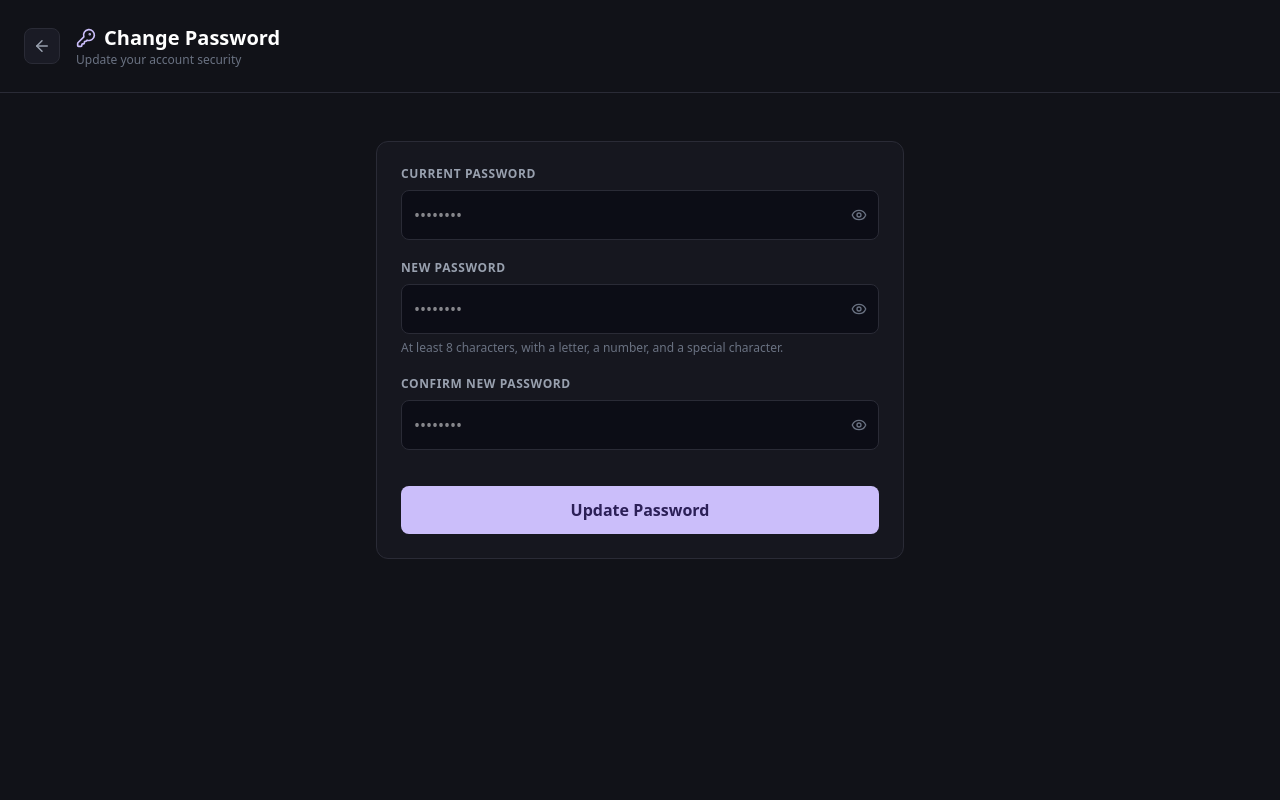
Test: PasswordUpdatePage (user profile) › updates the password and redirects to profile
Type "Old1234!" into the password field with placeholder "••••••••" below "Current Password".
click(640, 215); type("Old1234!")  # box left=401, top=190, right=879, bottom=240
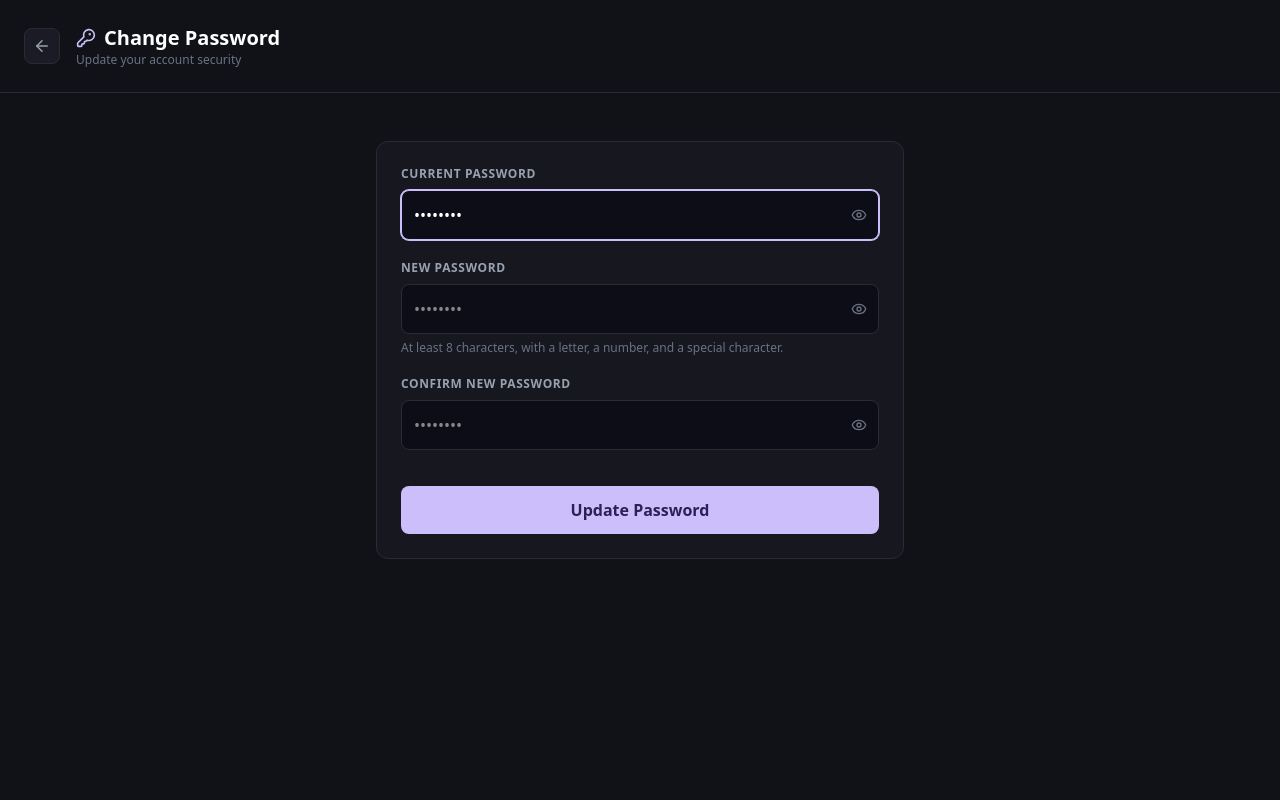
Type "NewPass1!" into the 1st password field with placeholder "••••••••".
click(640, 309); type("NewPass1!")  # box left=401, top=284, right=879, bottom=334
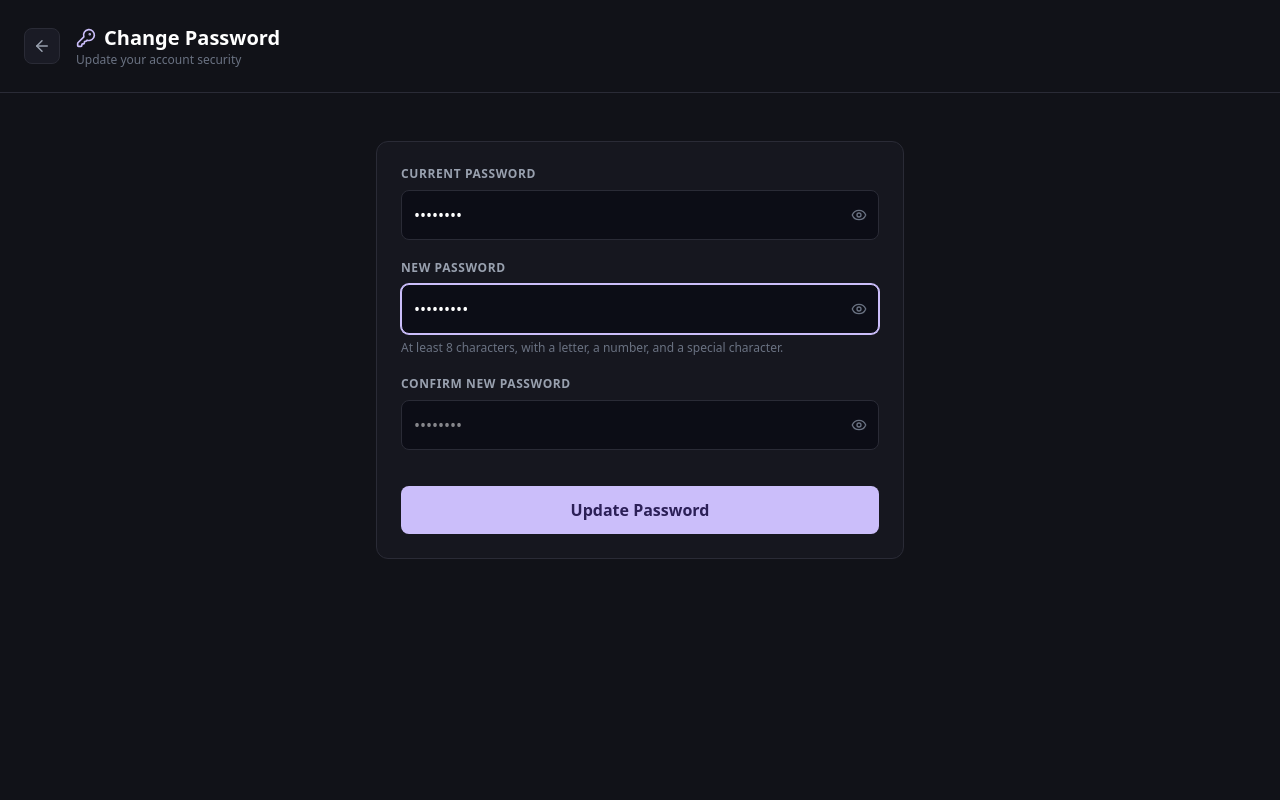
Type "NewPass1!" into the password field with placeholder "••••••••".
click(640, 425); type("NewPass1!")  # box left=401, top=400, right=879, bottom=450
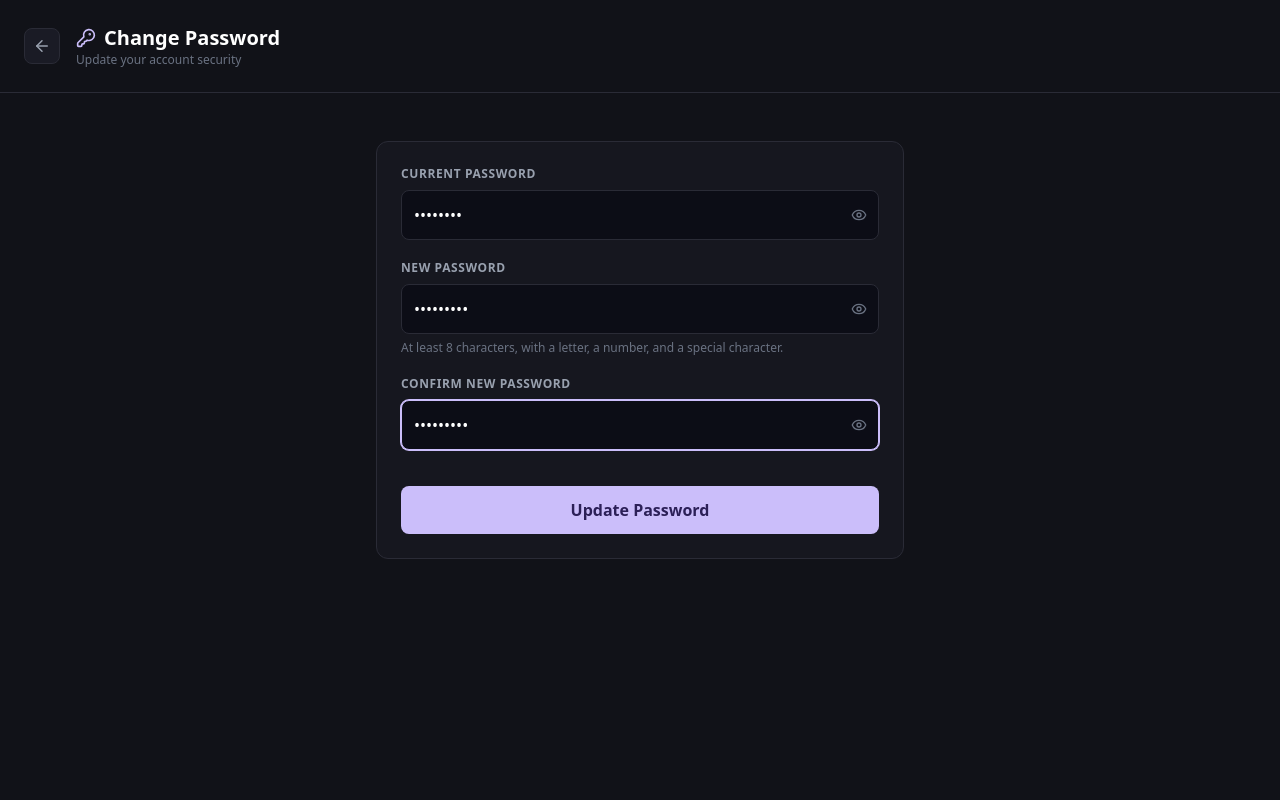
Click the button "Update Password".
click(640, 510)  # box left=401, top=486, right=879, bottom=534
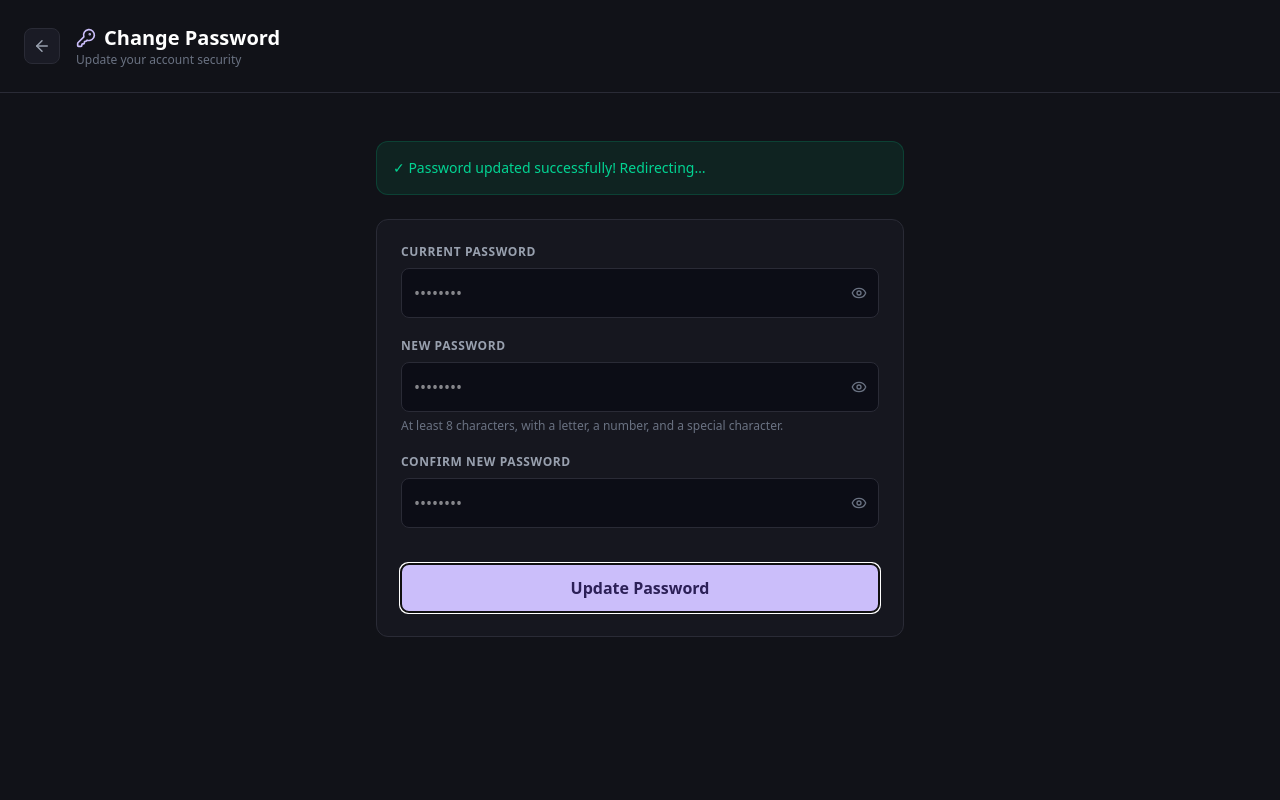
Now the text "✓ Password updated successfully! Redirecting…" is shown, box left=376, top=141, right=904, bottom=195
